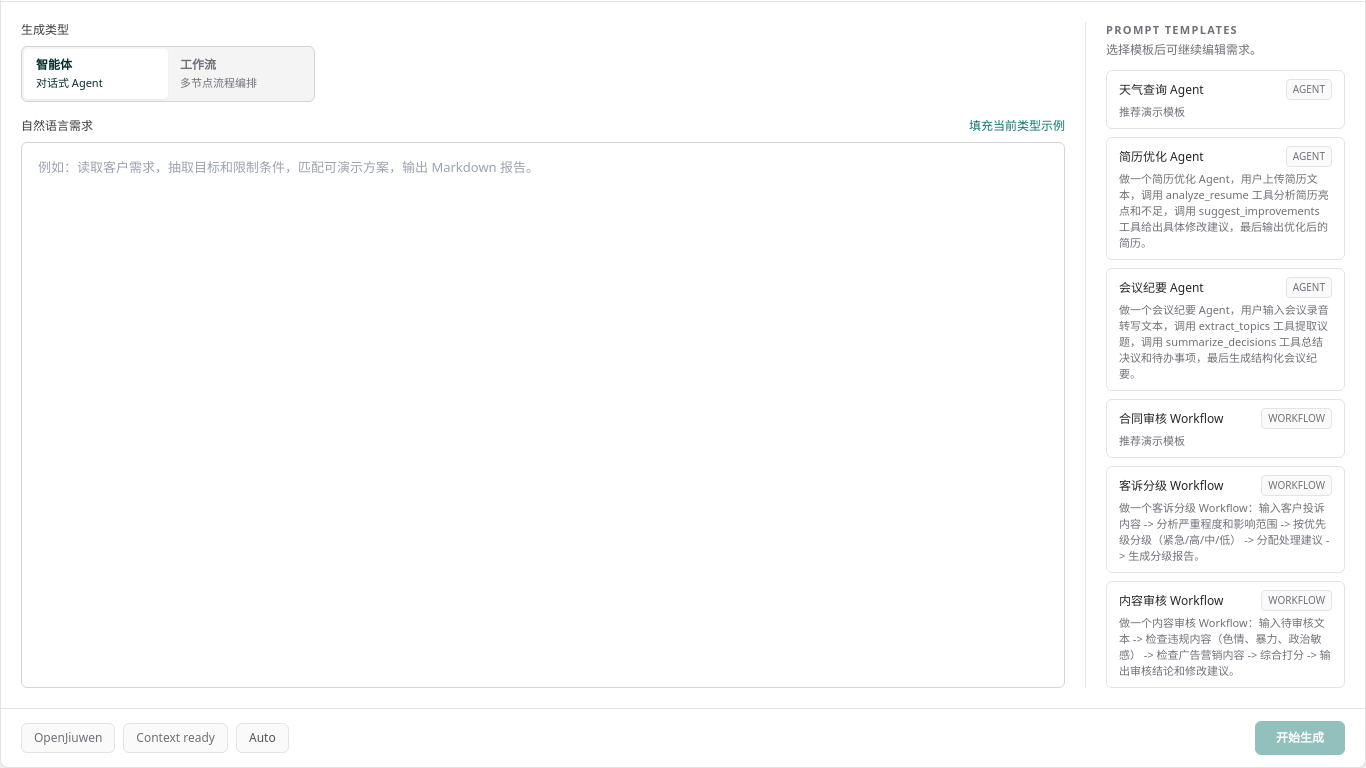
Test case: PromptComposer (home page, PRD §6.1) › shows a user-facing error and does not redirect when the API rejects
(page scrolled)
Step 1. Type "无效需求" into the text box with test id "prompt-input" → {"x": 543, "y": 415}, box left=21, top=142, right=1065, bottom=688
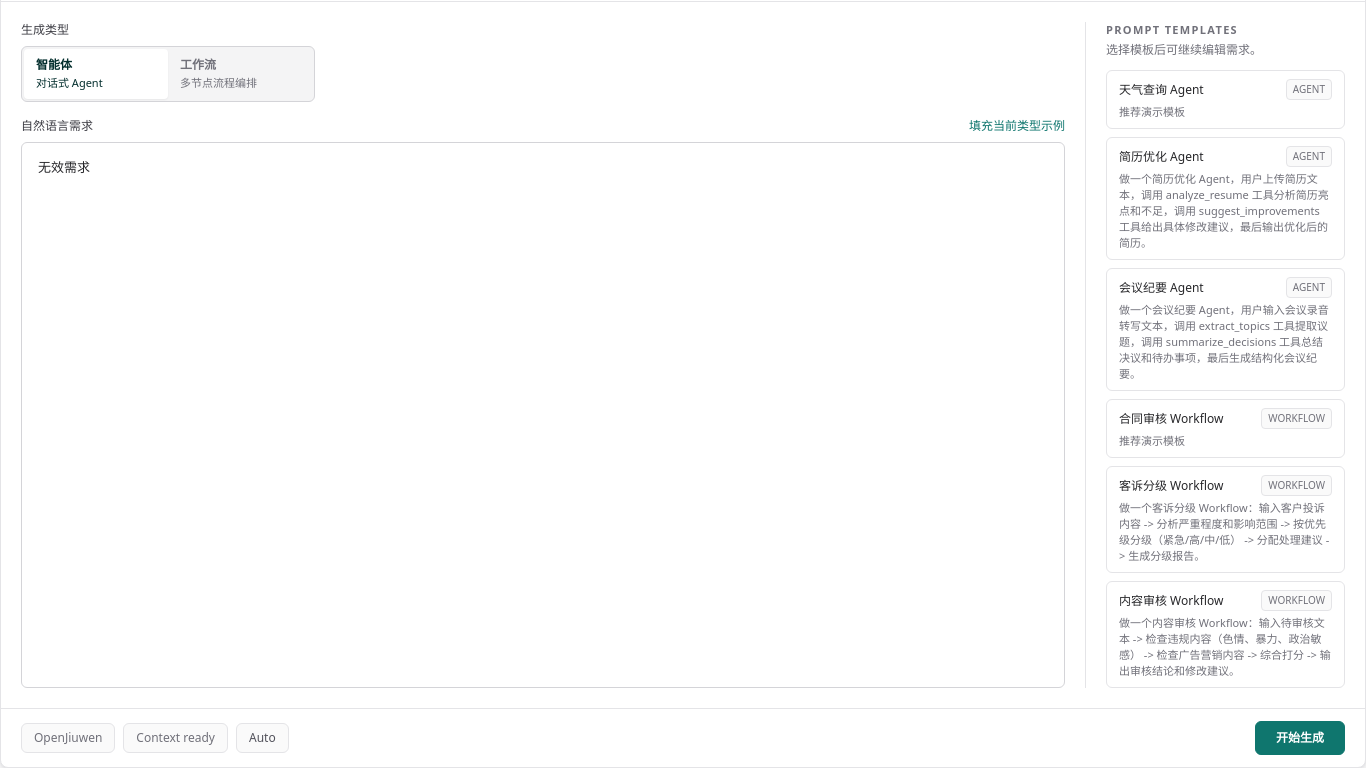
Step 2. Click the button with test id "submit-button" → {"x": 1300, "y": 738}, box left=1255, top=721, right=1345, bottom=755
(page scrolled)
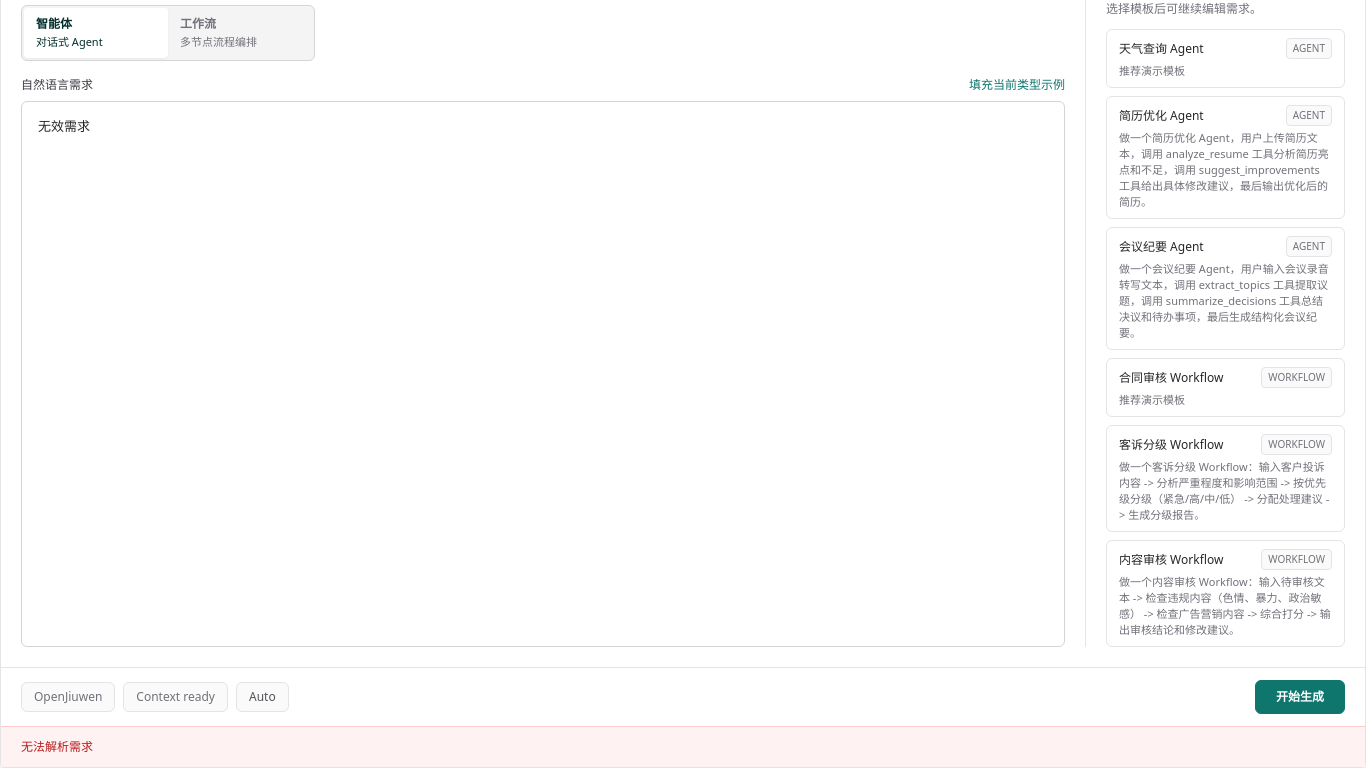
Check: the message with test id "submit-error" reads "无法解析需求", box left=21, top=738, right=93, bottom=755
